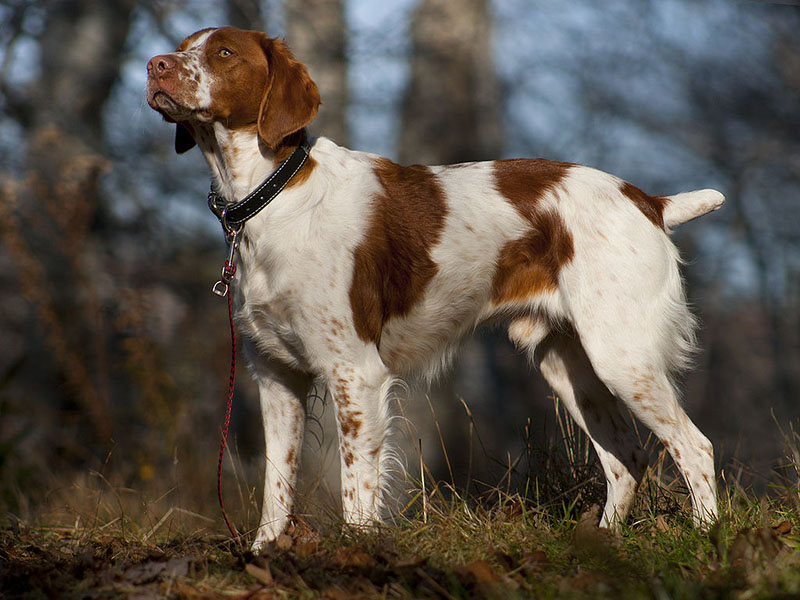cane da caccia: (129, 21, 740, 553)
